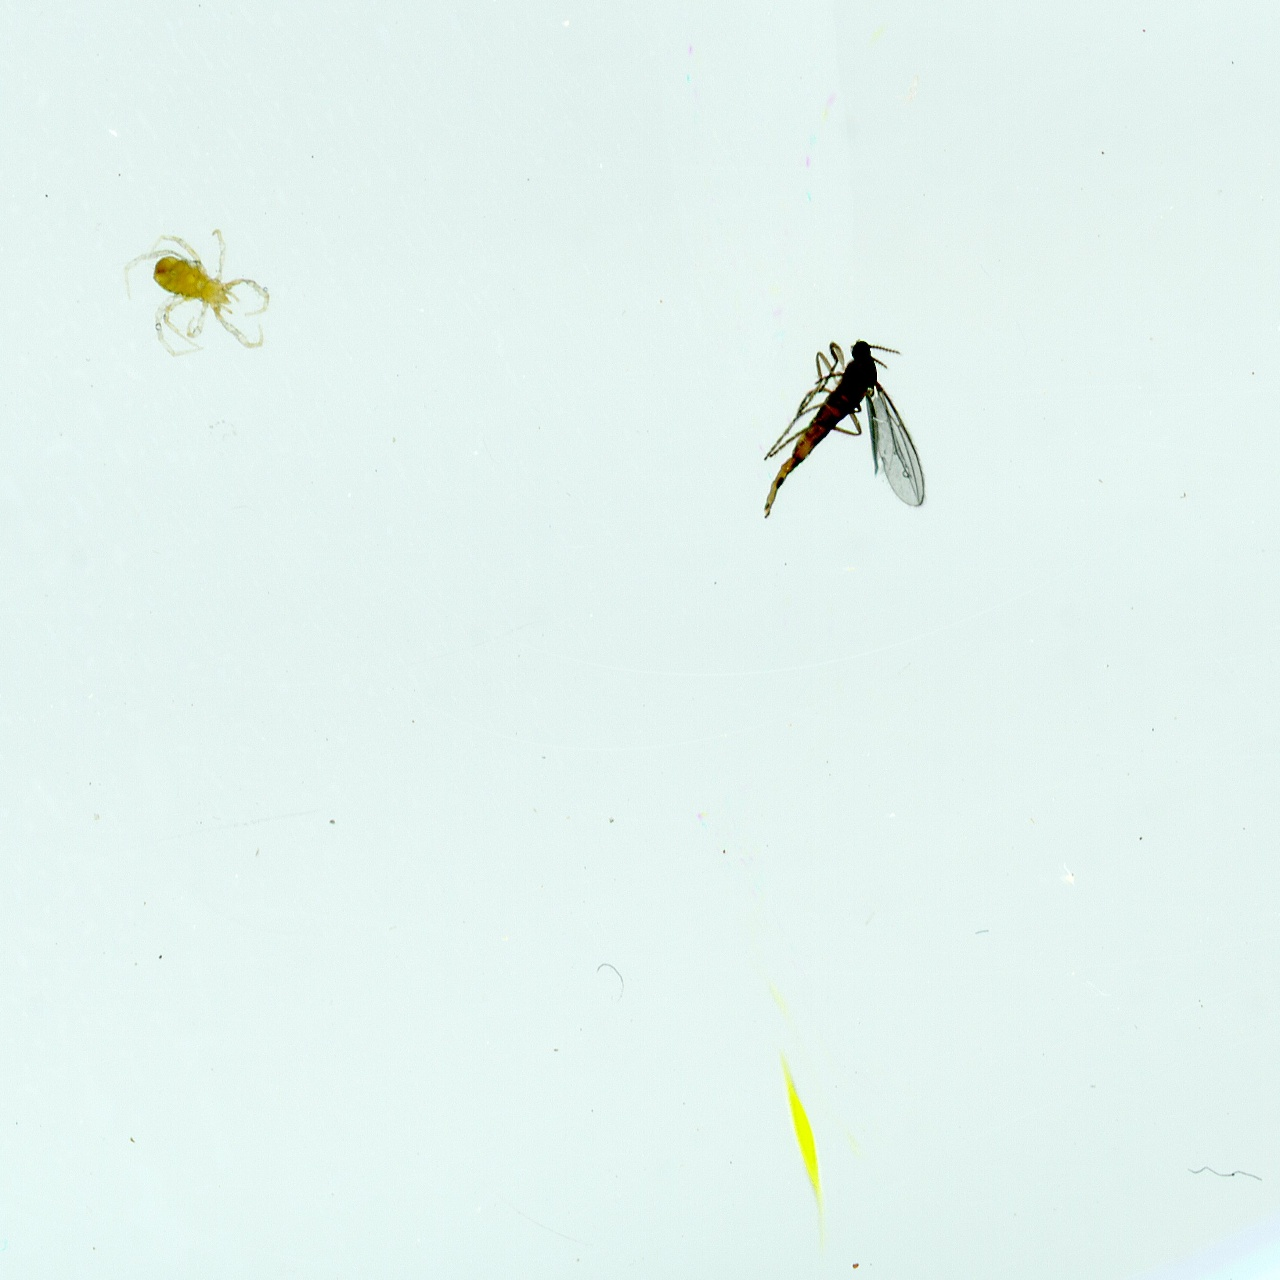arthropod: (738, 329, 939, 543), (92, 207, 296, 372)
